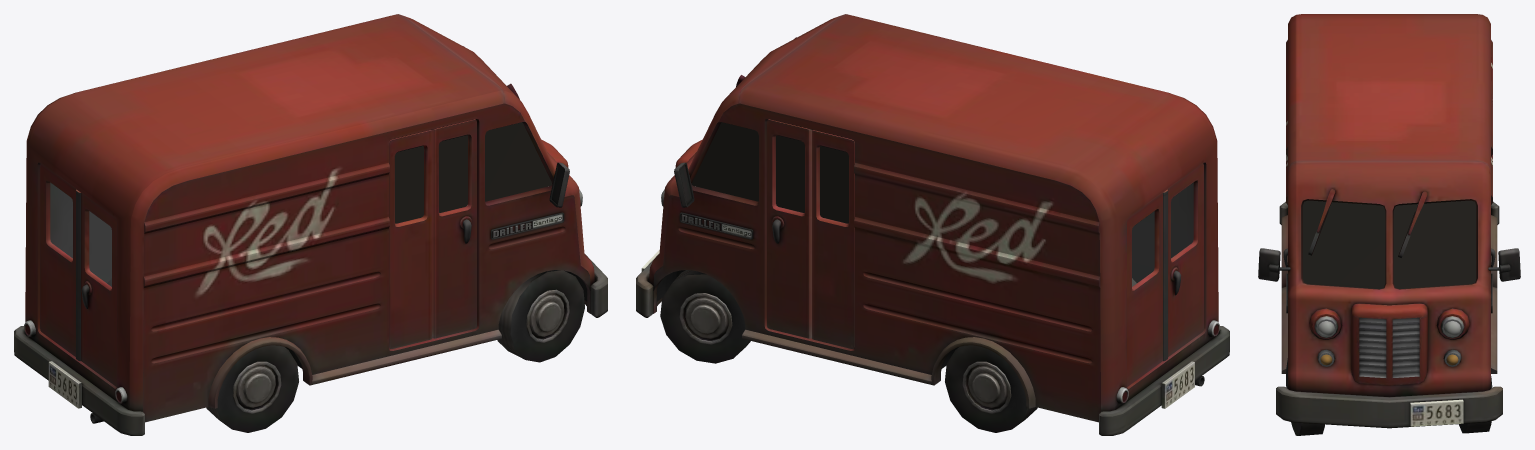
The picture shows the model from 3 angles, left to right: view 1: azimuth 30°, elevation 25°; view 2: azimuth 150°, elevation 25°; view 3: azimuth 270°, elevation 25°; orthographic projection. The views are drawn at different scales.
Visible parts, largest first — view 1: body0_model0_lod0_mesh0, body0_model0_lod0_mesh1; view 2: body0_model0_lod0_mesh0, body0_model0_lod0_mesh1; view 3: body0_model0_lod0_mesh0, body0_model0_lod0_mesh1.
Boxes of the visible parts, bbox=[...] form: body0_model0_lod0_mesh0: bbox=[14, 14, 607, 435]; body0_model0_lod0_mesh1: bbox=[395, 122, 552, 223]; body0_model0_lod0_mesh0: bbox=[636, 14, 1229, 435]; body0_model0_lod0_mesh1: bbox=[691, 122, 848, 223]; body0_model0_lod0_mesh0: bbox=[1258, 14, 1520, 435]; body0_model0_lod0_mesh1: bbox=[1302, 200, 1476, 289].
Size of the model in its own units: 211 by 112 by 106.
Materials: 2 (2 with a texture image).
